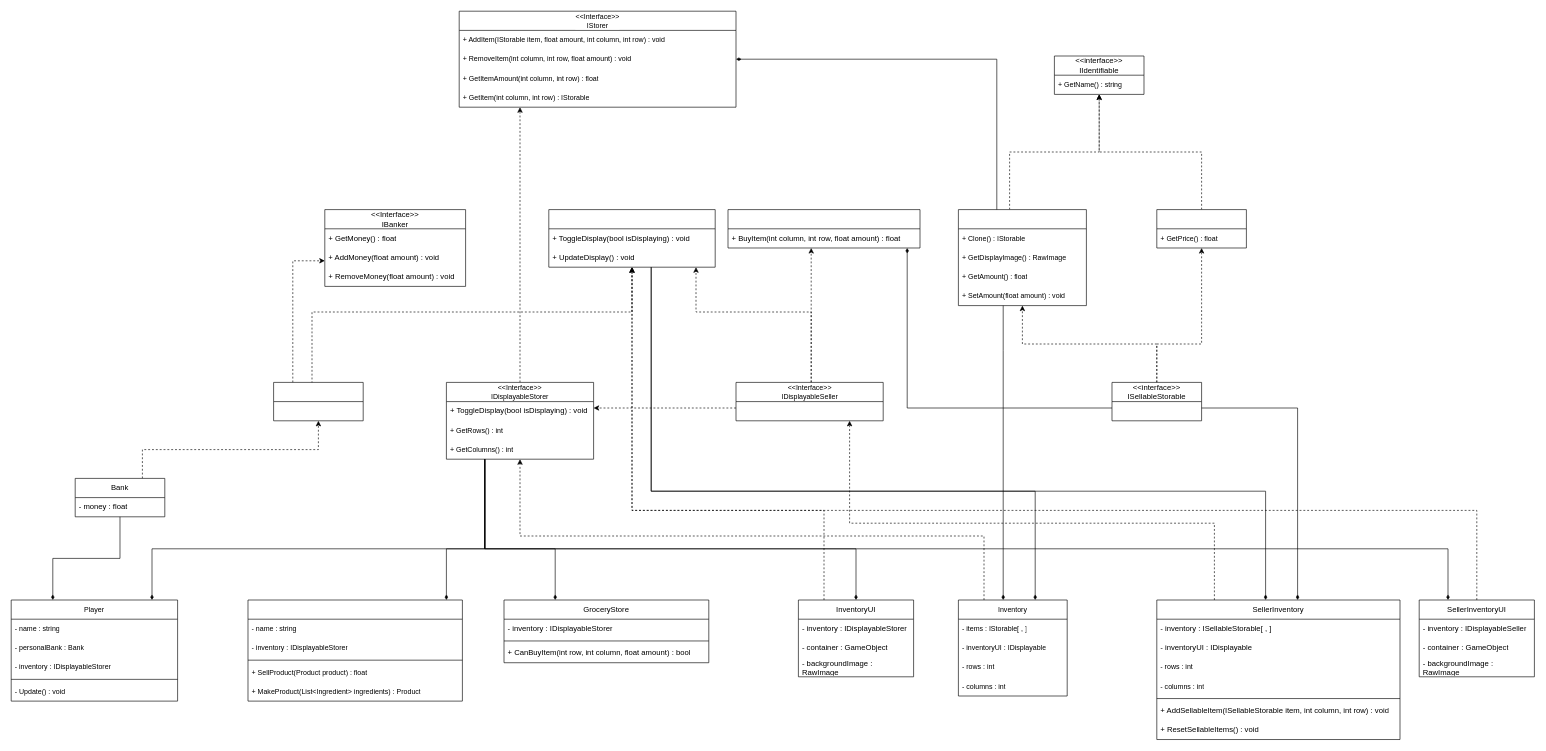
Image size: 1546x751. Some labels were removed from this diagram. Each missing label, with the box of its shape:
<<interface>> IDisplayable: (548, 209, 715, 267)
<<interface>> IDisplayableBanker: (273, 382, 363, 421)
<<interface>> ISellable: (1156, 209, 1246, 248)
<<interface>> ISeller: (727, 209, 920, 248)
<<interface>> IStorable: (958, 209, 1086, 306)
Restaurant: (247, 599, 462, 701)
